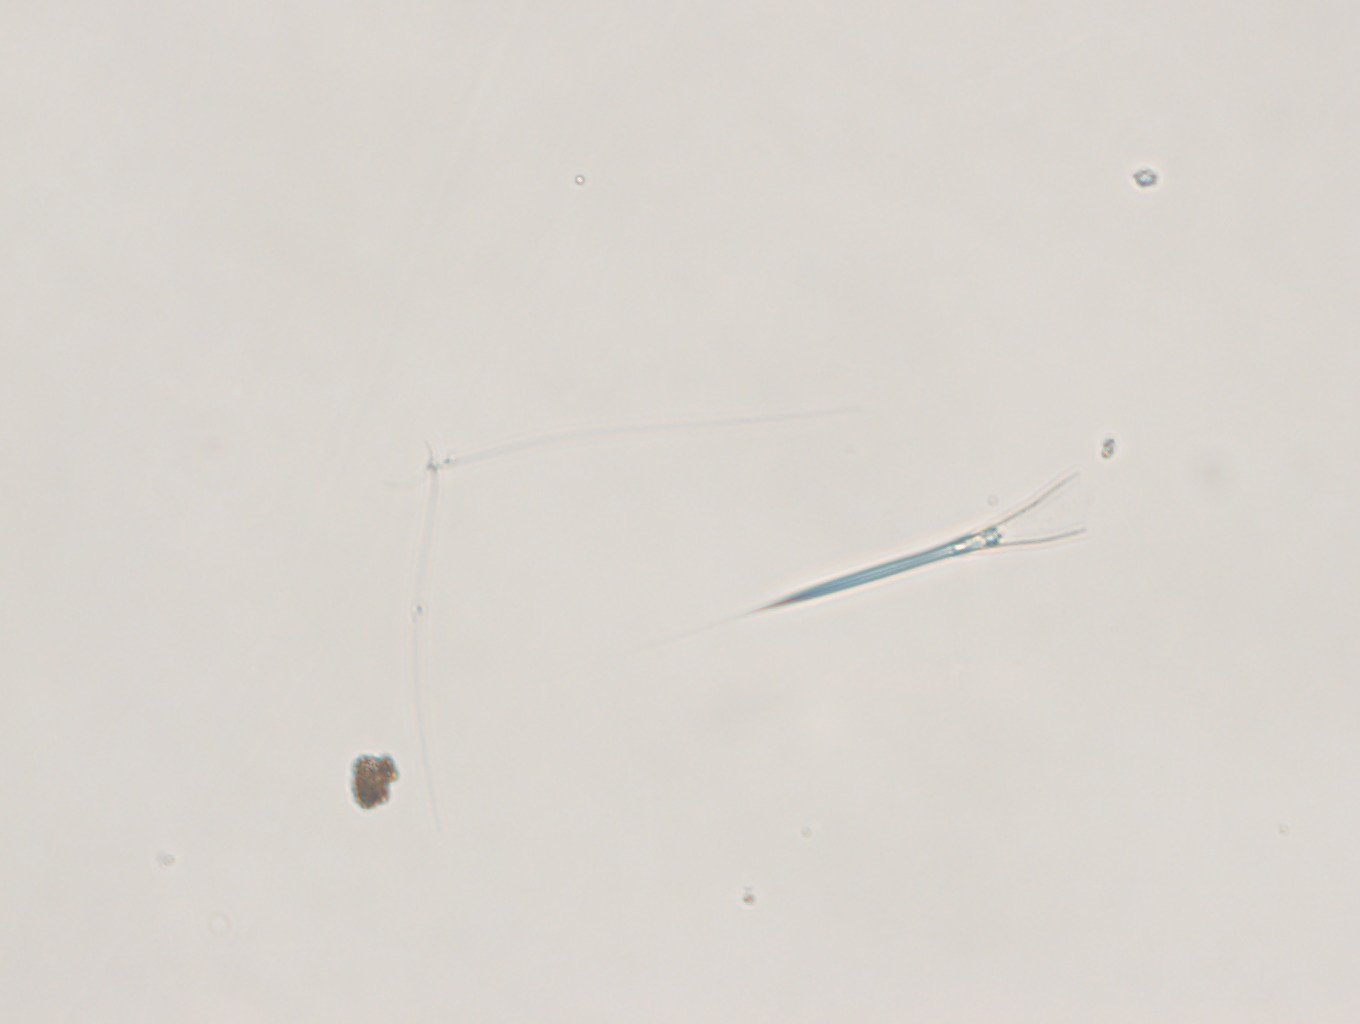ceratium fusus: (711, 477, 1099, 625)
